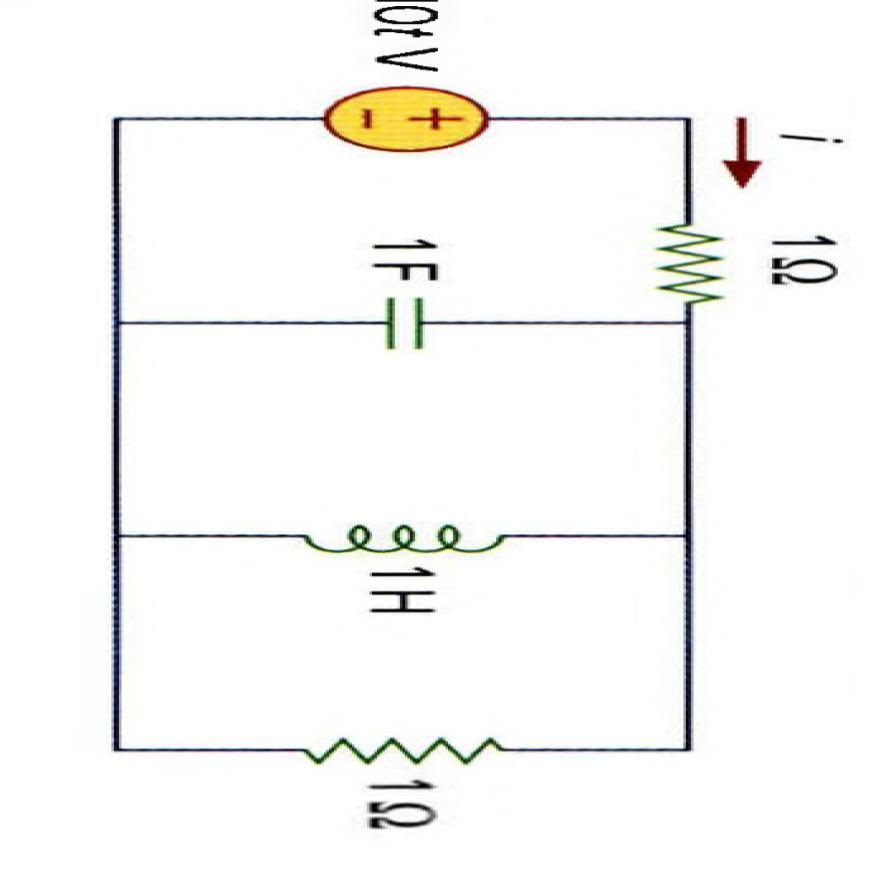C1: (332, 292, 468, 352)
L1: (282, 504, 522, 566)
R1: (278, 723, 529, 776)
R2: (623, 208, 746, 312)
V2: (304, 83, 504, 155)
